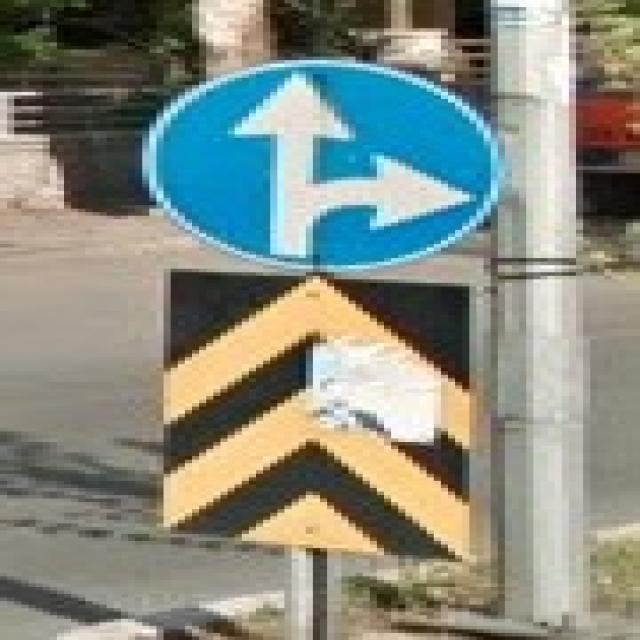Straight or Right: (147, 65, 495, 270)
